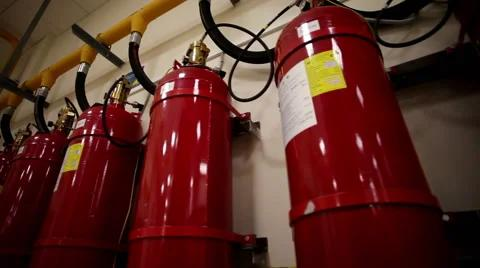Fire Extinguisher: (270, 6, 451, 268), (141, 33, 244, 268), (54, 64, 131, 268), (0, 111, 50, 268)
